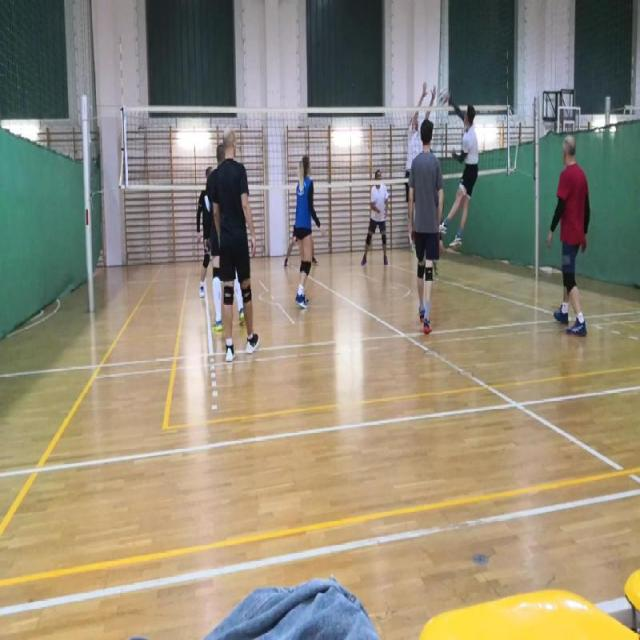volleyball: (440, 88, 448, 104)
